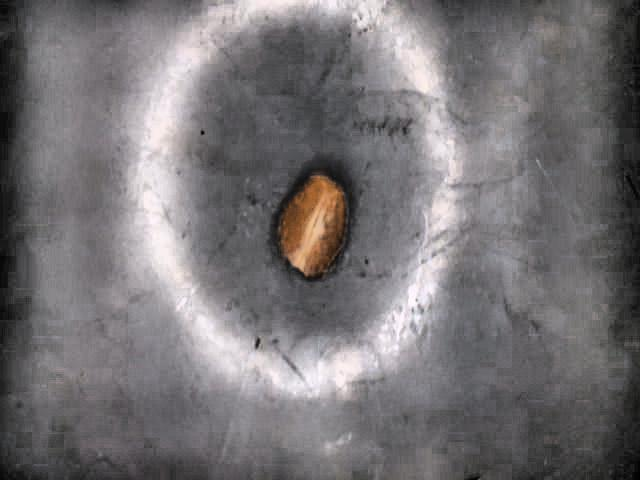Almennt: (278, 174, 354, 284)
